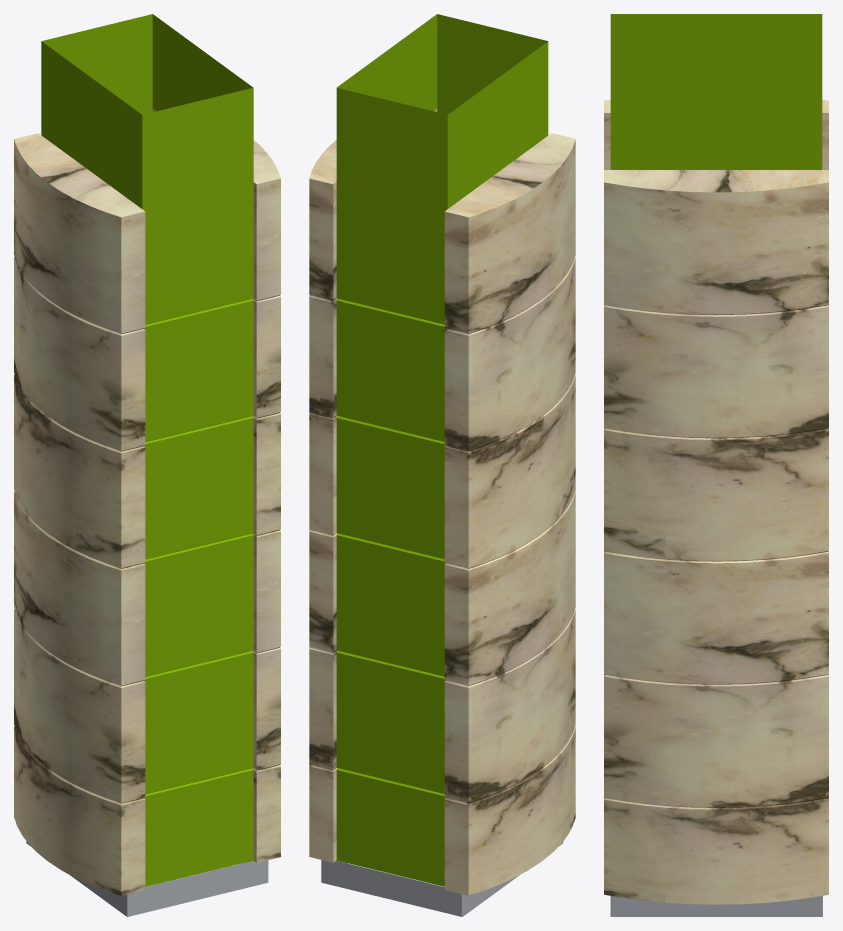
File: Pillar.FBX
3 renders of one model, left to right at view 1: azimuth 30°, elevation 25°; view 2: azimuth 150°, elevation 25°; view 3: azimuth 270°, elevation 25°, orthographic. The views are drawn at different scales.
Parts seen in each view (by area): view 1: Object237; view 2: Object237; view 3: Object237.
Boxes of the visible parts, x1=… form: Object237: x1=14, y1=14, x2=280, y2=916; Object237: x1=309, y1=14, x2=575, y2=916; Object237: x1=604, y1=14, x2=828, y2=916.
Size of the model in its own units: 1072 by 4112 by 1000.
